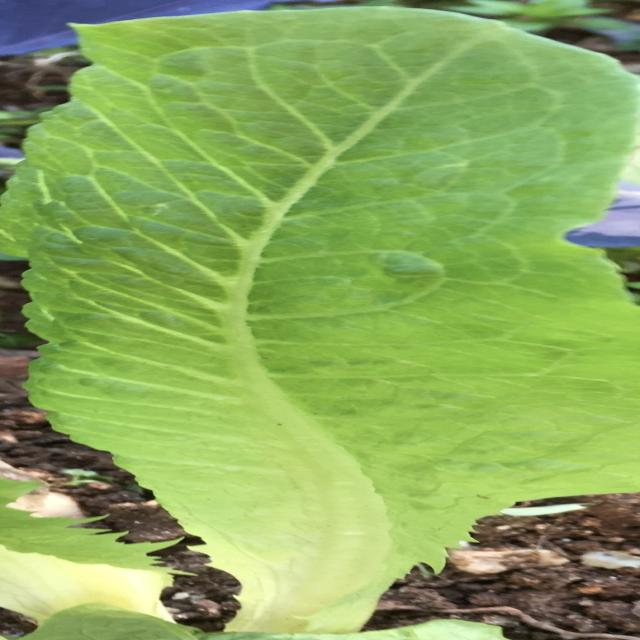Healthy Lettuce: (9, 4, 634, 636)
